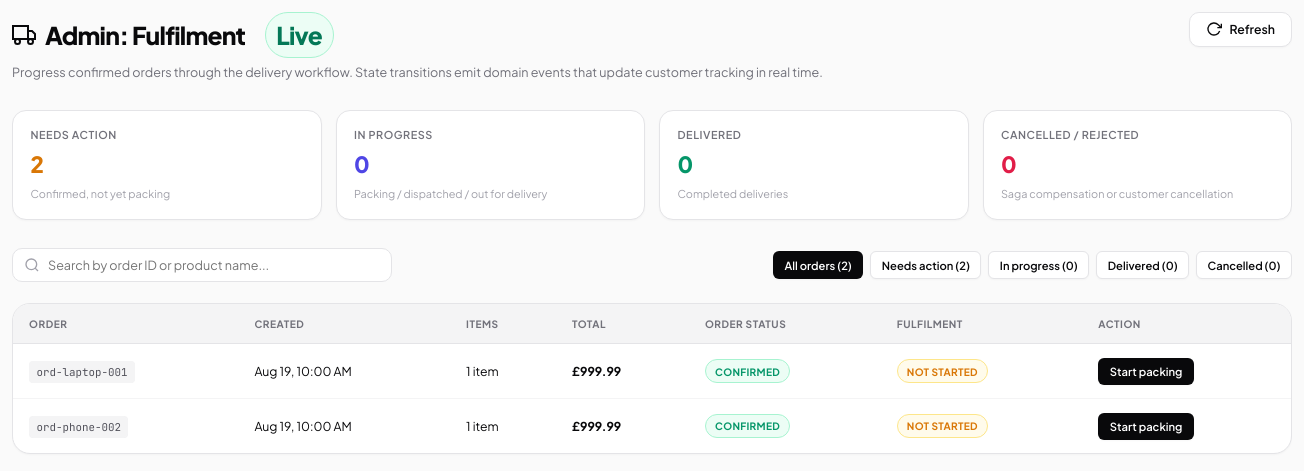
AdminFulfilmentPage › filters orders by search term on order ID
This screenshot has width=1304, height=471.
Expected: the text "ord-laptop-001" is shown, x1=29 y1=361 x2=135 y2=383
In the field named "Search orders": coordinates (202, 265) x1=12 y1=248 x2=392 y2=282, type "phone"
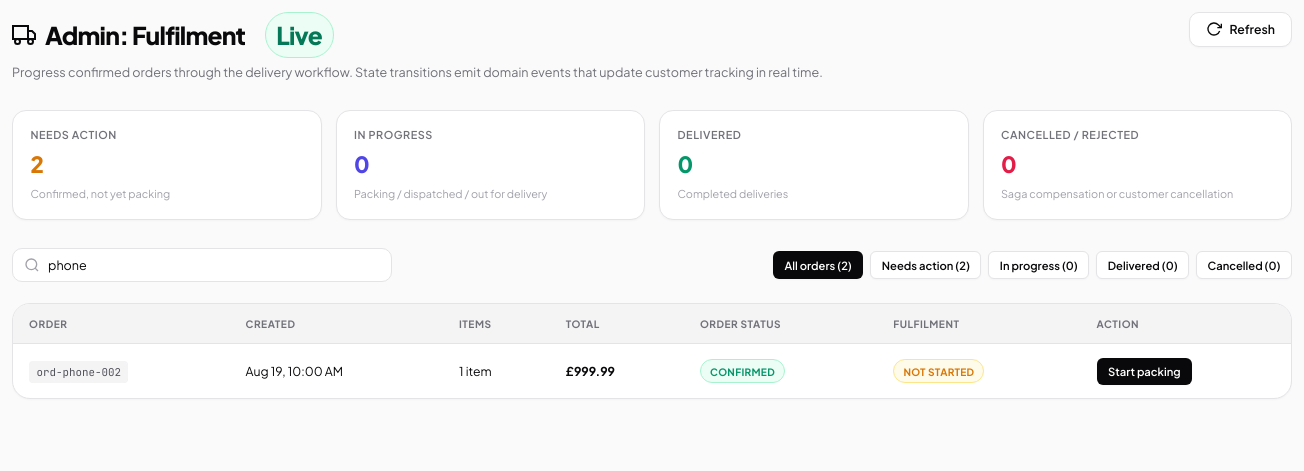
Expected: the text "ord-phone-002" is shown, x1=29 y1=361 x2=128 y2=383
Now the text "ord-laptop-001" is gone
